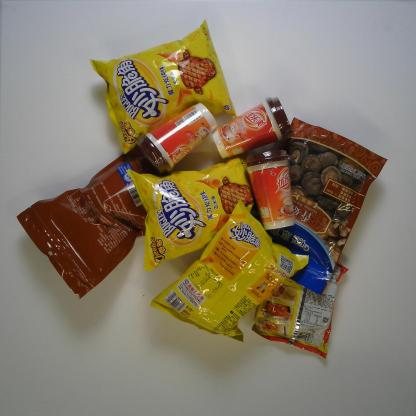Dried Food: (254, 117, 388, 296), (16, 152, 162, 300)
Instant Drink: (136, 102, 218, 175), (211, 96, 293, 159), (245, 149, 296, 231)
Instant Noodles: (250, 263, 349, 360)
Puffed Food: (150, 199, 310, 342), (89, 18, 237, 156), (126, 156, 256, 272)
